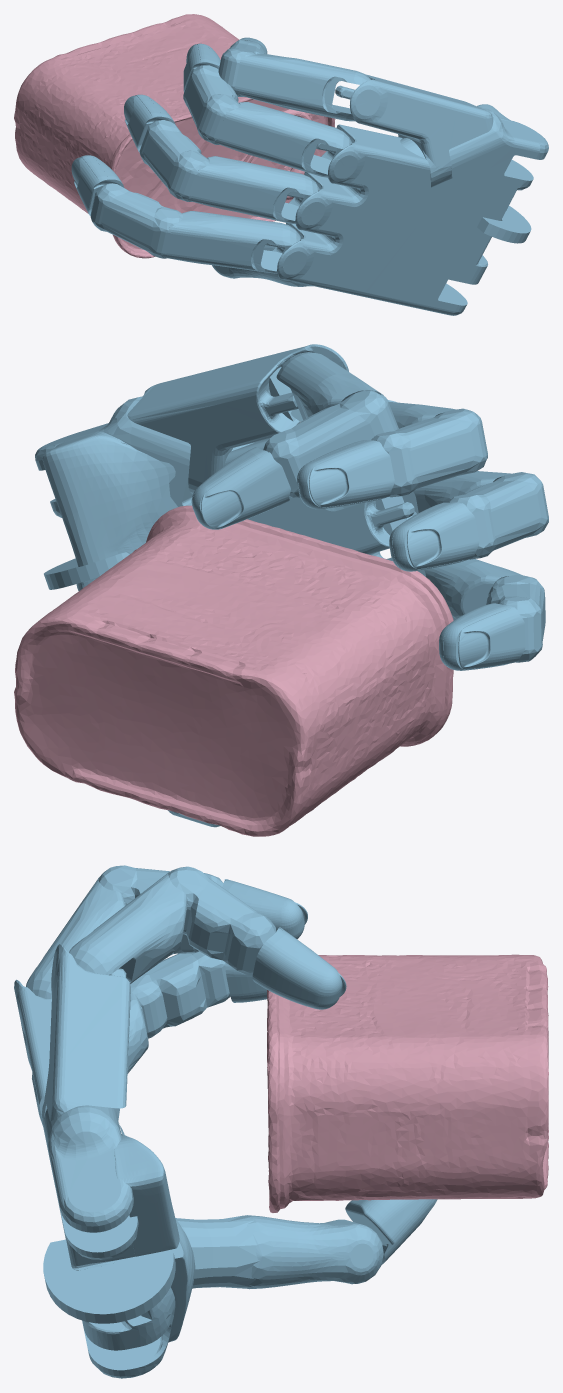
3 renders of one model, top to bottom at view 1: azimuth 30°, elevation 25°; view 2: azimuth 150°, elevation 25°; view 3: azimuth 270°, elevation 25°, orthographic. The views are drawn at different scales.
Visible parts, largest first — view 1: world; view 2: world; view 3: world.
Part boxes in pixels (box(x1,y1,x2,y2)): world: box(14, 14, 548, 315); world: box(14, 344, 548, 836); world: box(14, 865, 548, 1378).
Bounding box in the file's own units: 0.1843 × 0.1251 × 0.1584.
